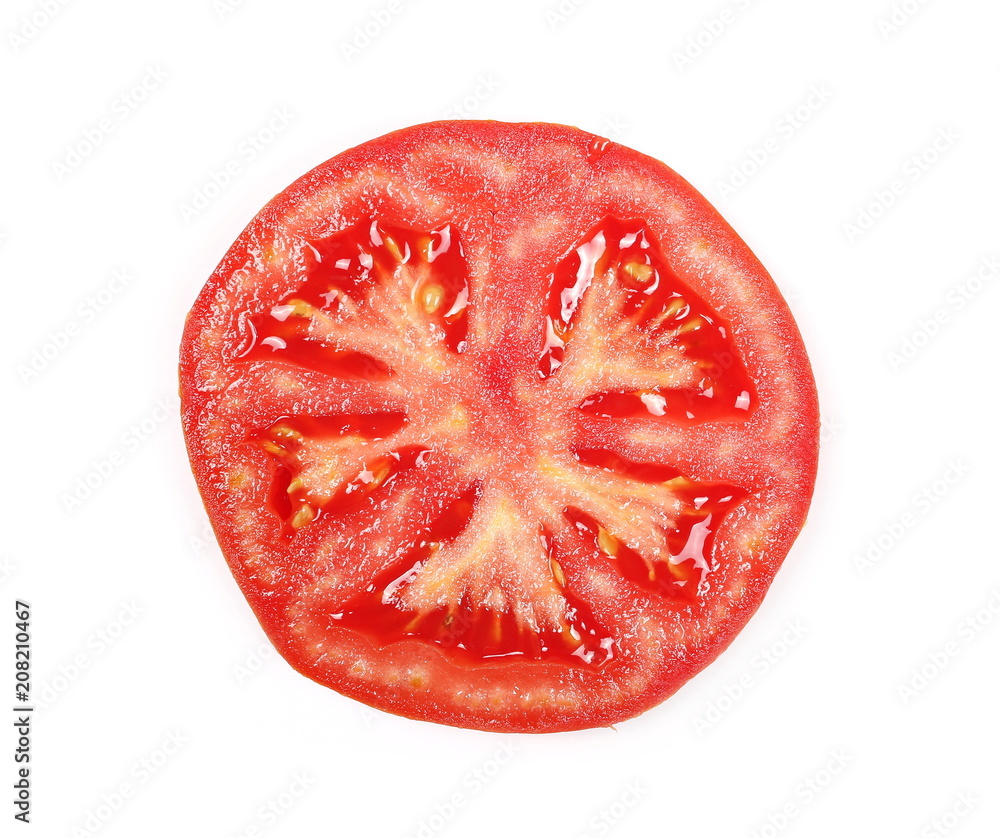tomato: (178, 117, 823, 733)
